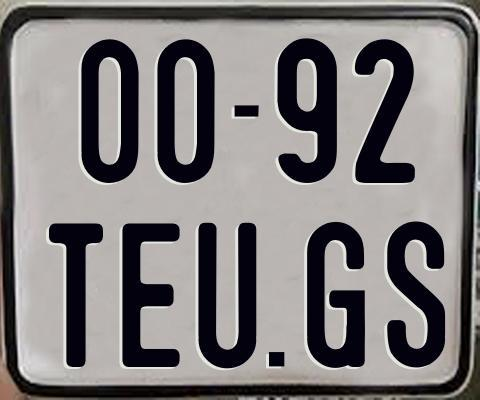0: (79, 36, 138, 181), (154, 39, 213, 183)
2: (352, 39, 418, 184)
9: (277, 38, 338, 189)
E: (120, 222, 178, 372)
G: (305, 220, 363, 371)
S: (385, 220, 447, 368)
T: (48, 220, 102, 367)
U: (195, 222, 256, 367)
